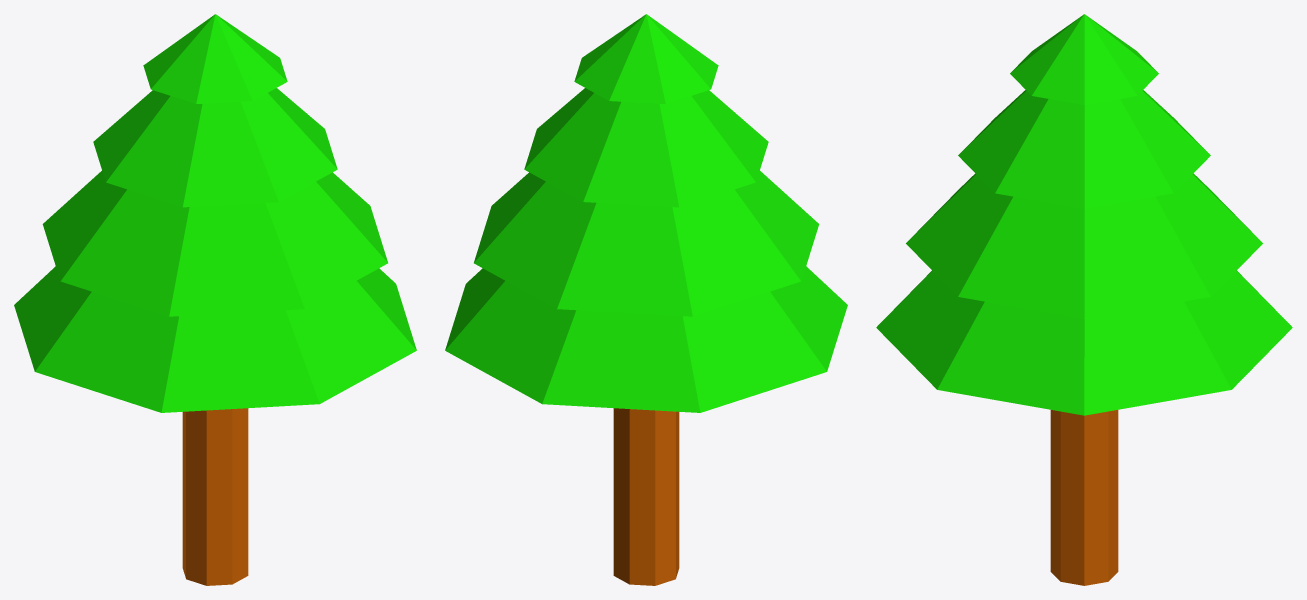
The model's file is Tree1.fbx.
The picture shows the model from 3 angles, left to right: view 1: azimuth 30°, elevation 25°; view 2: azimuth 150°, elevation 25°; view 3: azimuth 270°, elevation 25°; orthographic projection.
Parts seen in each view (by area): view 1: Cylinder; view 2: Cylinder; view 3: Cylinder.
Boxes of the visible parts, x1,y1,x2,y2 form: Cylinder: (14, 14, 416, 585); Cylinder: (445, 14, 847, 585); Cylinder: (876, 14, 1292, 585).
Bounding box in the file's own units: 91.9 × 136 × 91.9.
